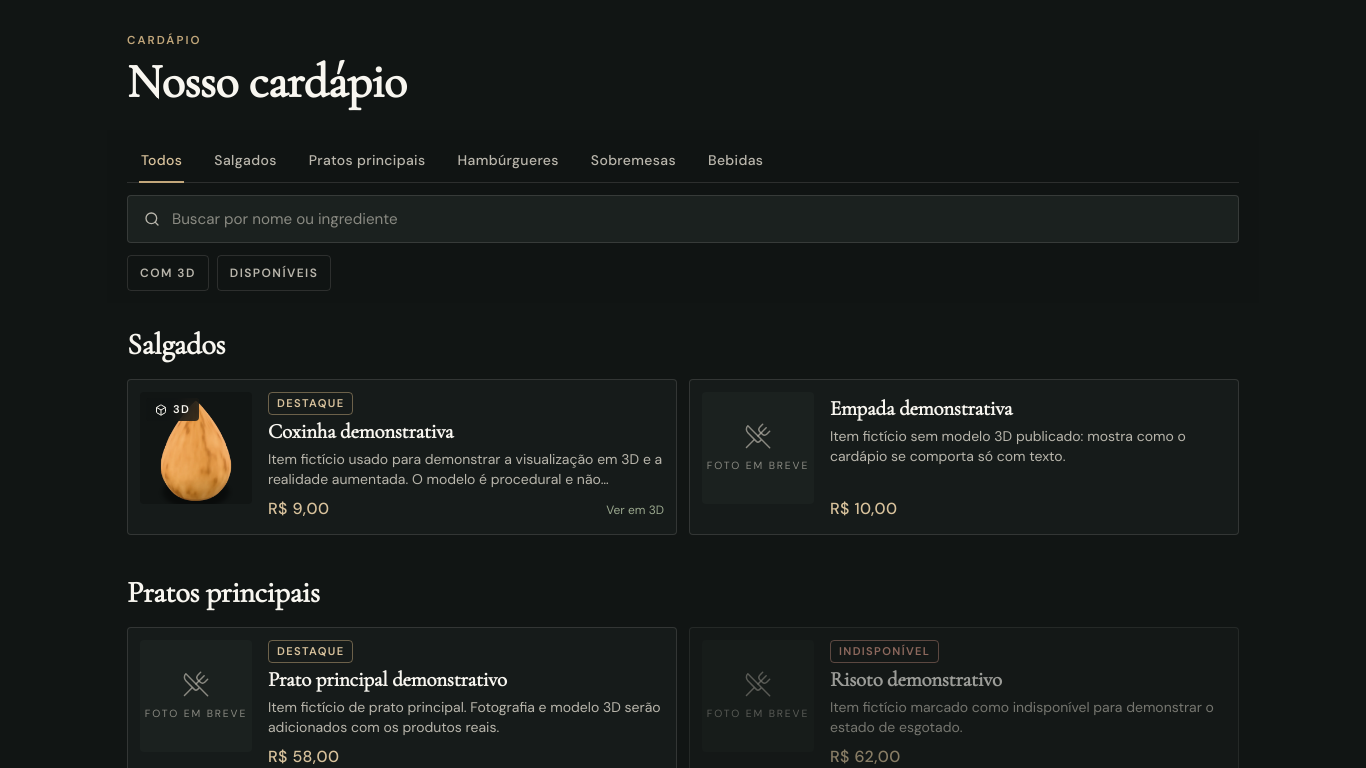
cardápio › busca por nome sem acento e mostra estado vazio
Type "hamburguer" into the search field. click: [697, 219]
box: [172,196,1222,242]
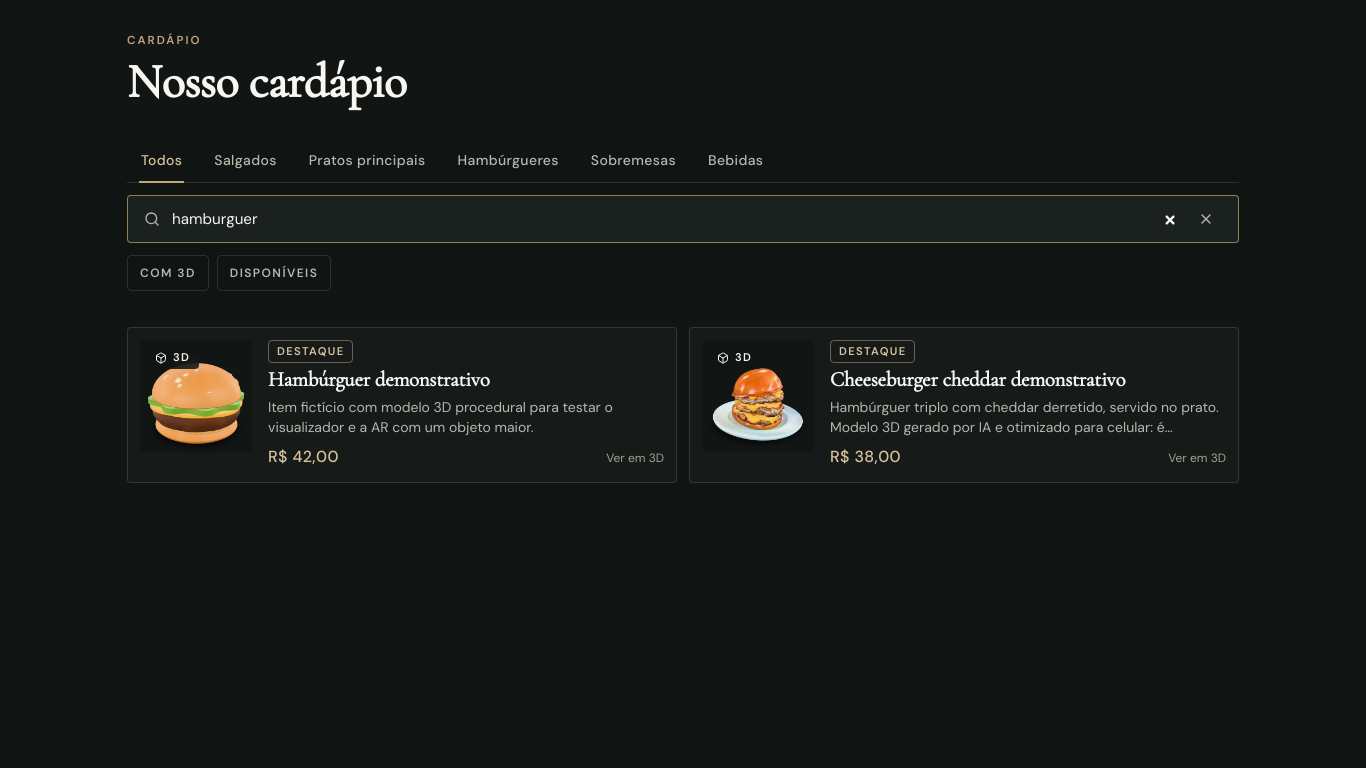
Expected: the link "Hambúrguer demonstrativo" is shown, [127,327,677,483]
Expected: the number of links "demonstrativ" is 2, [127,327,677,483]; [689,327,1239,483]
Clear the search field. click: [675, 219]
box: [172,196,1178,242]
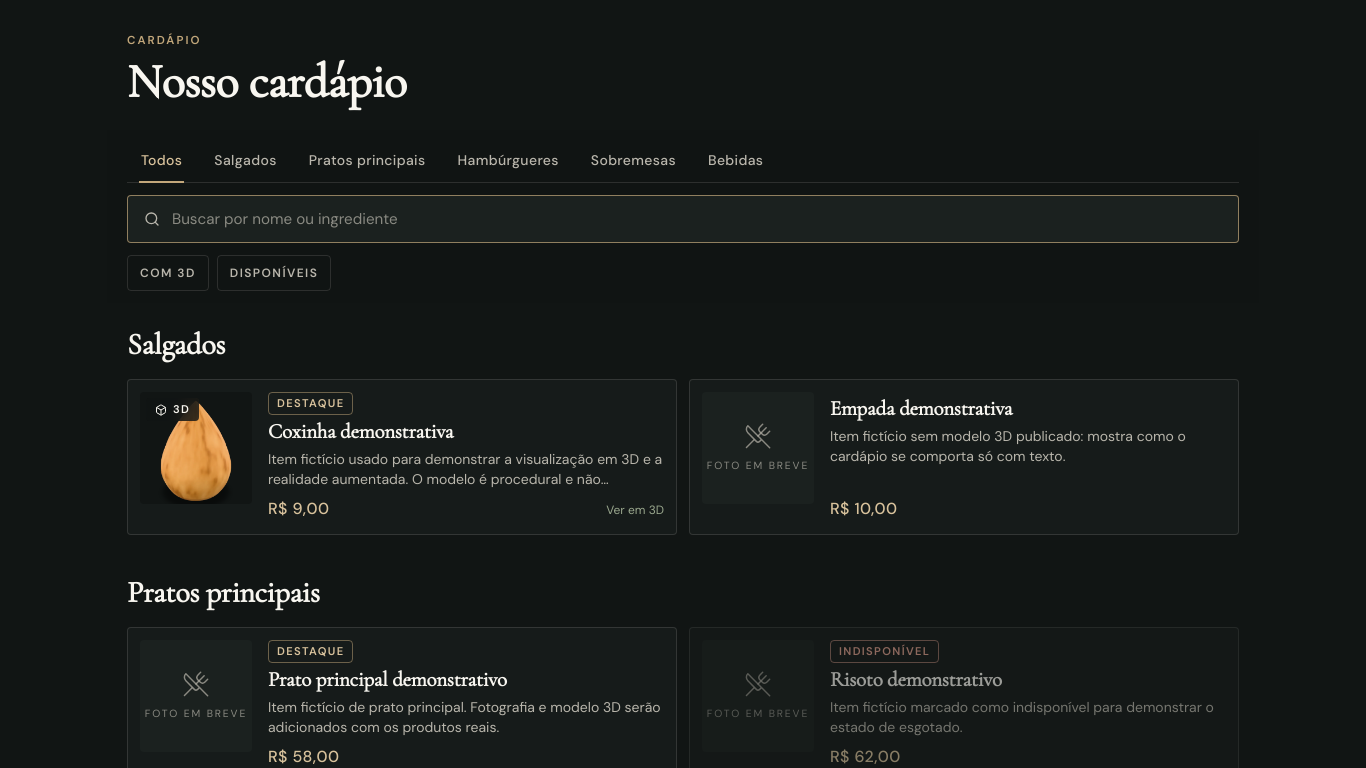
Type "zzzz" into the search field. click: [697, 219]
box: [172,196,1222,242]
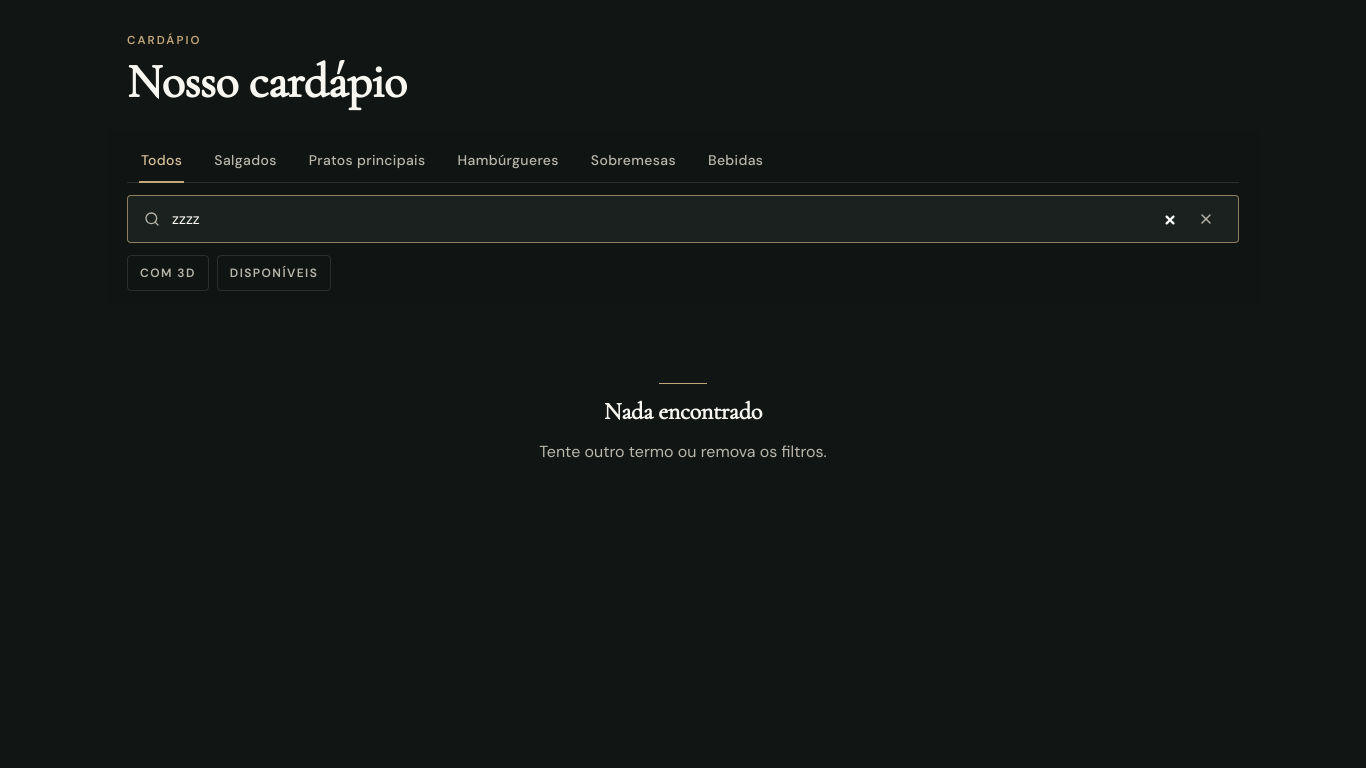
Expected: the heading "Nada encontrado" is shown, [604,396,762,428]
